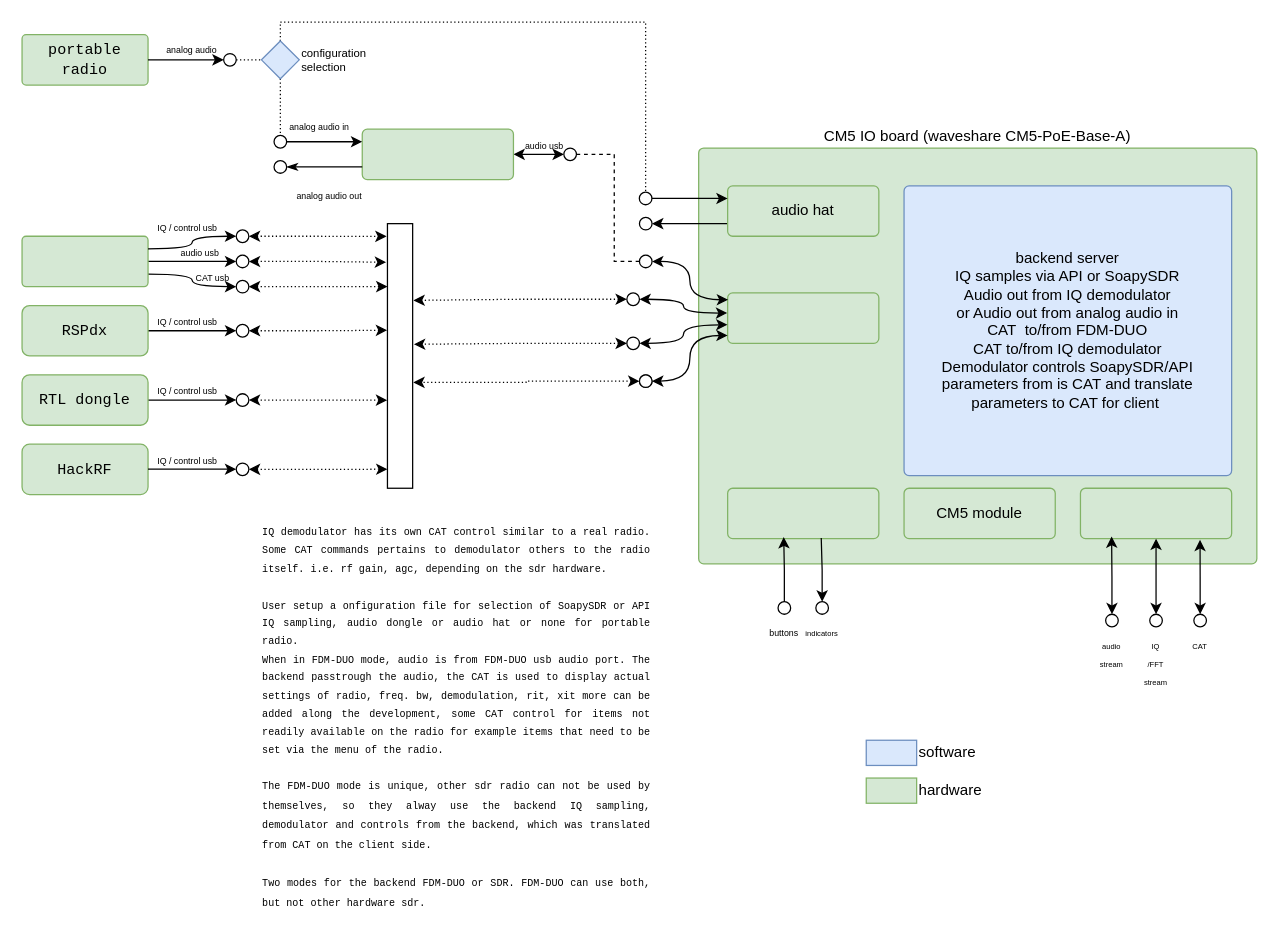
This 1279x934 diagram has some shape labels left out. The shapes that lost their labels are listed below. From the top down, each one's box as (x1, y1, x2, y2) in pixels, then its label:
(361, 128, 513, 180): usb audio dongle
(21, 235, 148, 287): FDM-DUO/trx
(726, 292, 879, 343): usb ports 4
(726, 487, 879, 539): GPIO
(1079, 487, 1232, 539): network phy
